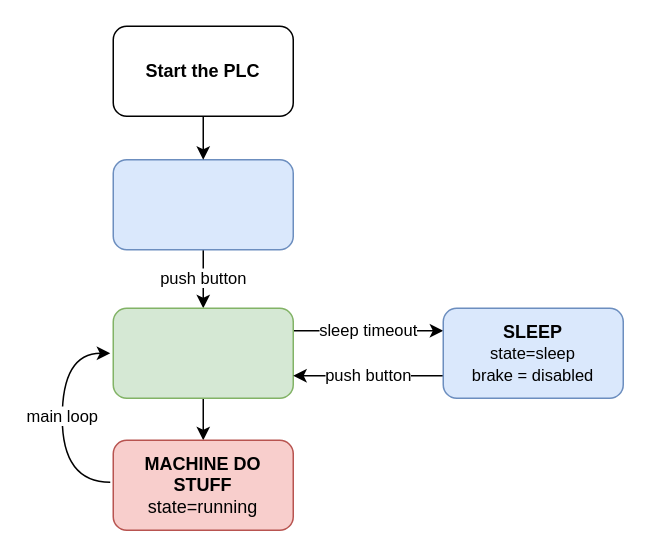
This 650x557 diagram has some shape labels left out. Here are the shapes that lost their labels. From the top down, the centre of each, then its label:
the point at 202,204: START state=stopped
the point at 202,352: USER DO STUFF state = running brake = enabled
